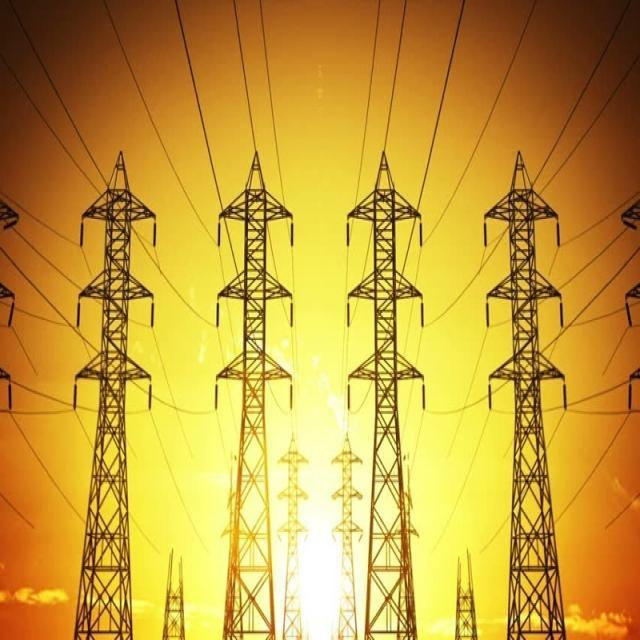non-critical vegetation: (70, 143, 160, 632), (344, 146, 431, 632), (480, 169, 570, 636), (211, 145, 292, 632)
